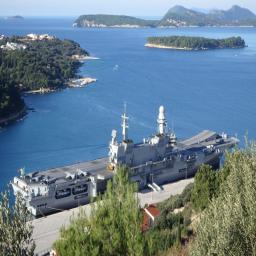Portanaves: (14, 87, 245, 222)
